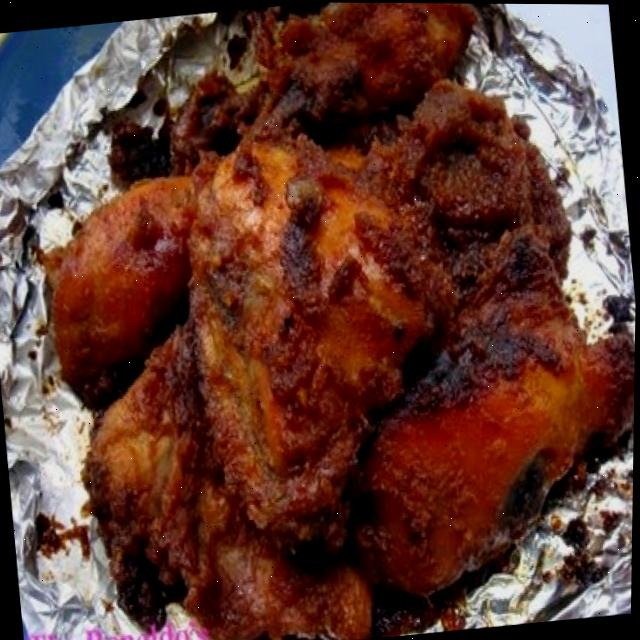鸡肉料理 含炸鸡: (6, 0, 640, 640)
